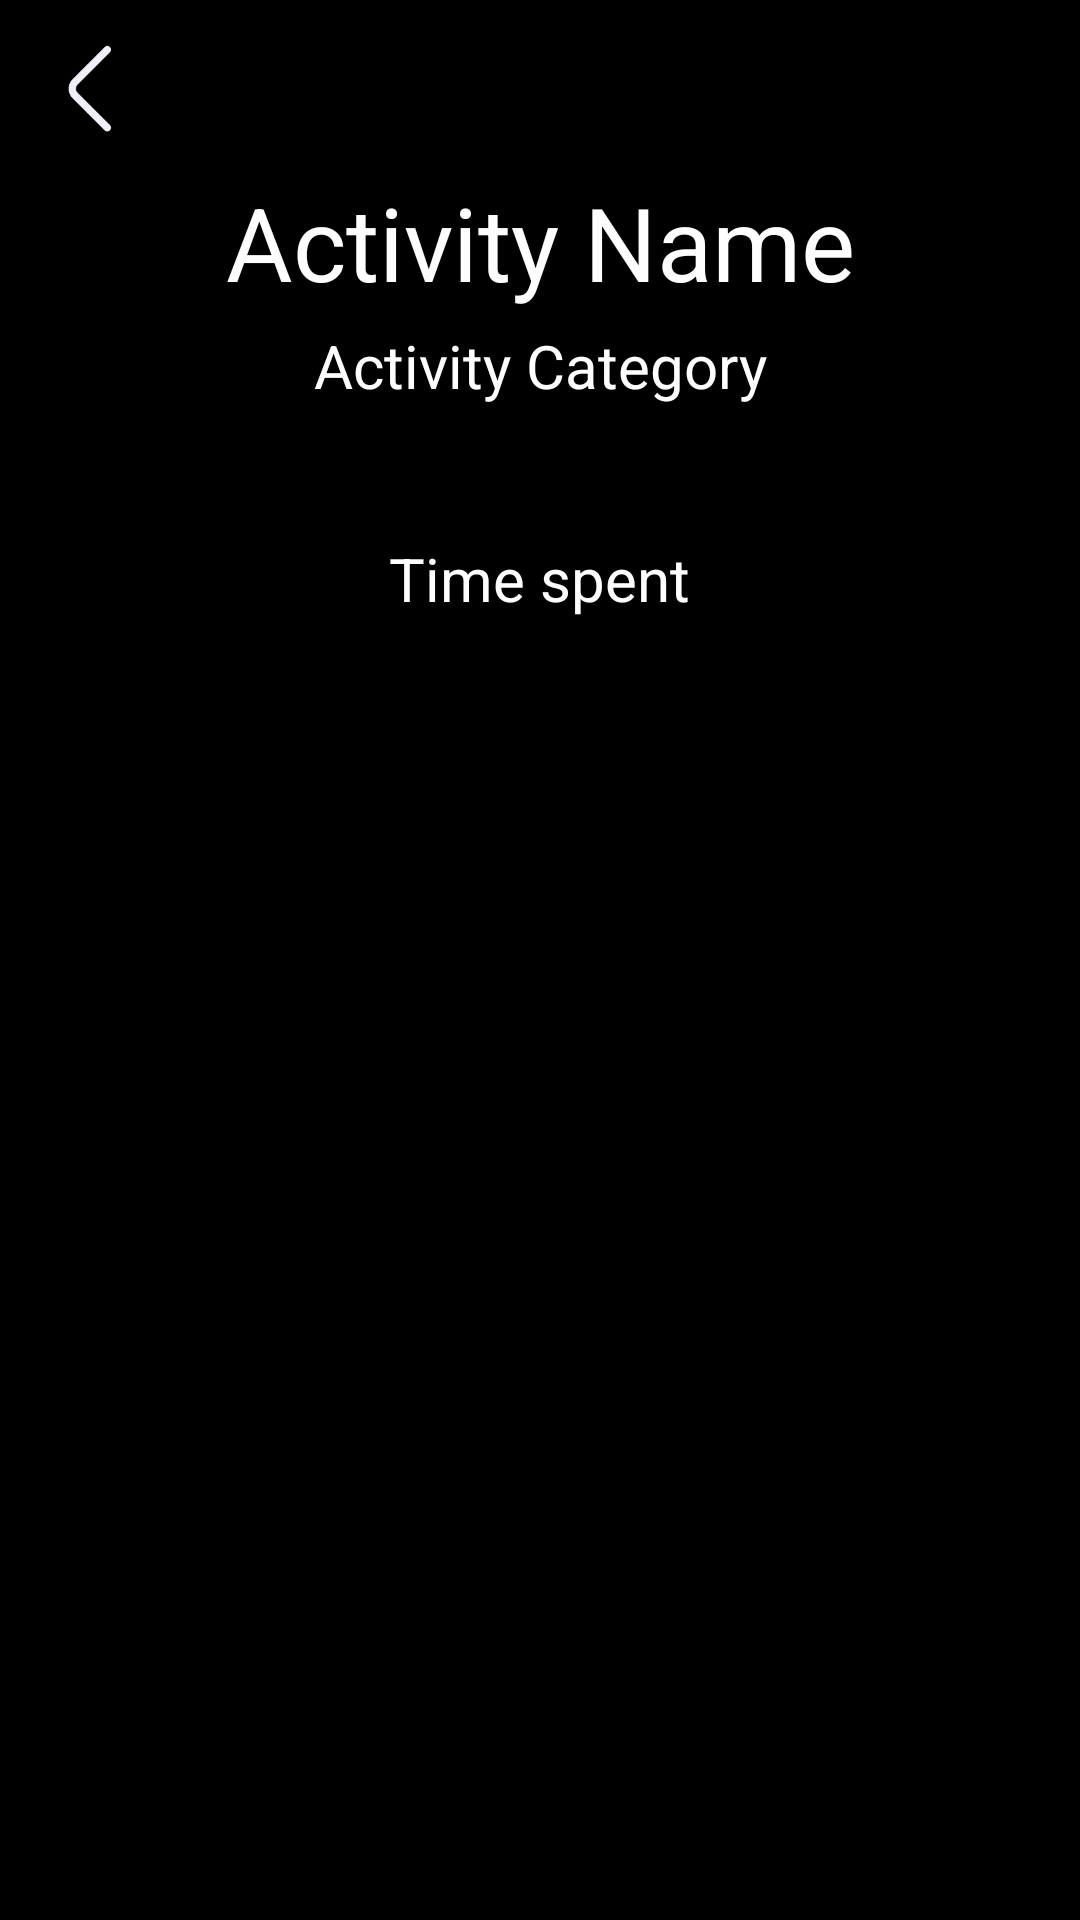

Where icons sit on this 1080px x 1920px app screen, as (x1, y1, x2, y2):
back: (68, 45, 111, 132)
